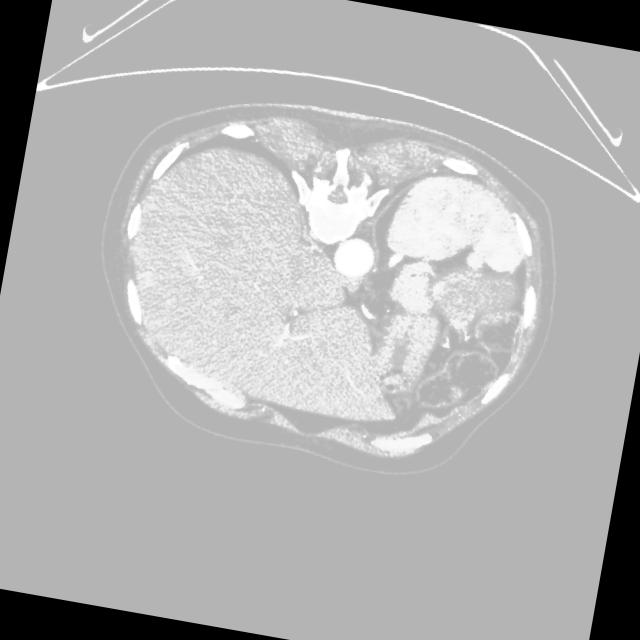TUMOR: (327, 185, 561, 431)
